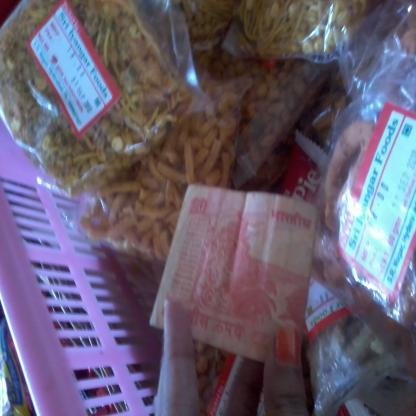Old20Back: (149, 183, 318, 362)
